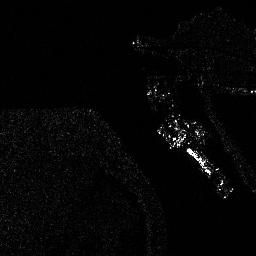ship: (185, 146, 213, 175)
